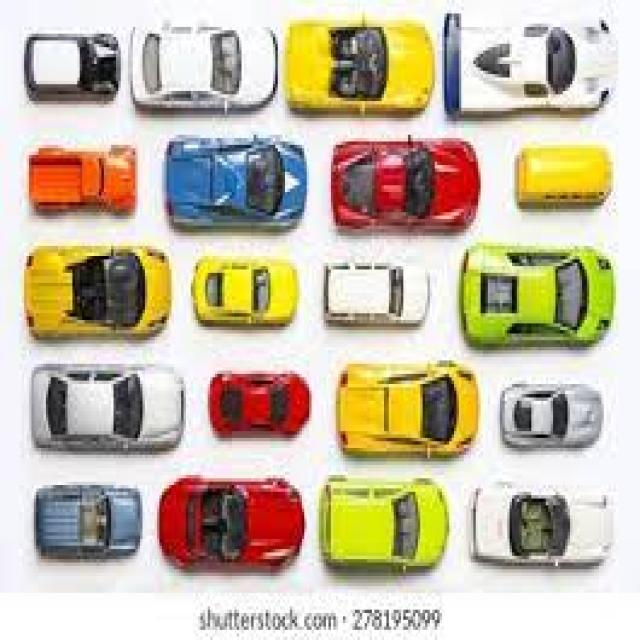vehicle: (425, 0, 624, 127), (145, 469, 317, 614), (463, 250, 640, 372), (147, 120, 320, 243), (127, 0, 281, 133), (301, 136, 496, 238), (7, 357, 199, 456), (12, 235, 187, 342), (291, 8, 438, 126), (311, 486, 454, 606), (334, 366, 490, 472), (458, 497, 627, 593), (492, 376, 633, 483), (204, 361, 326, 481), (22, 469, 145, 582), (188, 242, 306, 358), (11, 22, 129, 126), (318, 249, 441, 348), (27, 133, 154, 228), (505, 152, 640, 220)
